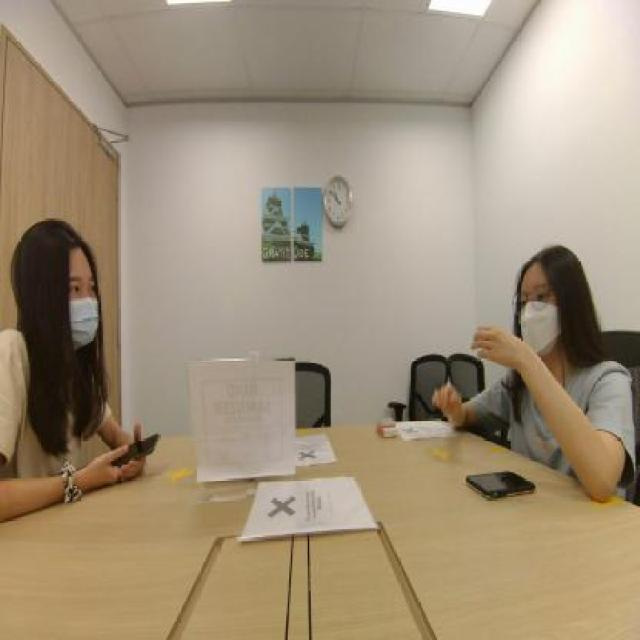Person: (2, 183, 121, 472), (484, 208, 601, 424)
